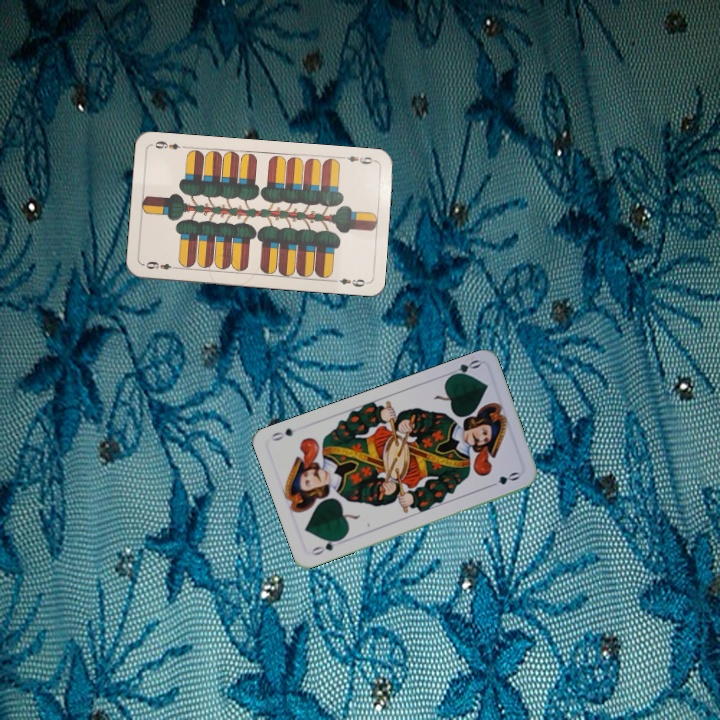E9: (337, 151, 378, 167), (142, 257, 181, 273)
GO: (443, 355, 483, 381), (307, 534, 345, 558)
